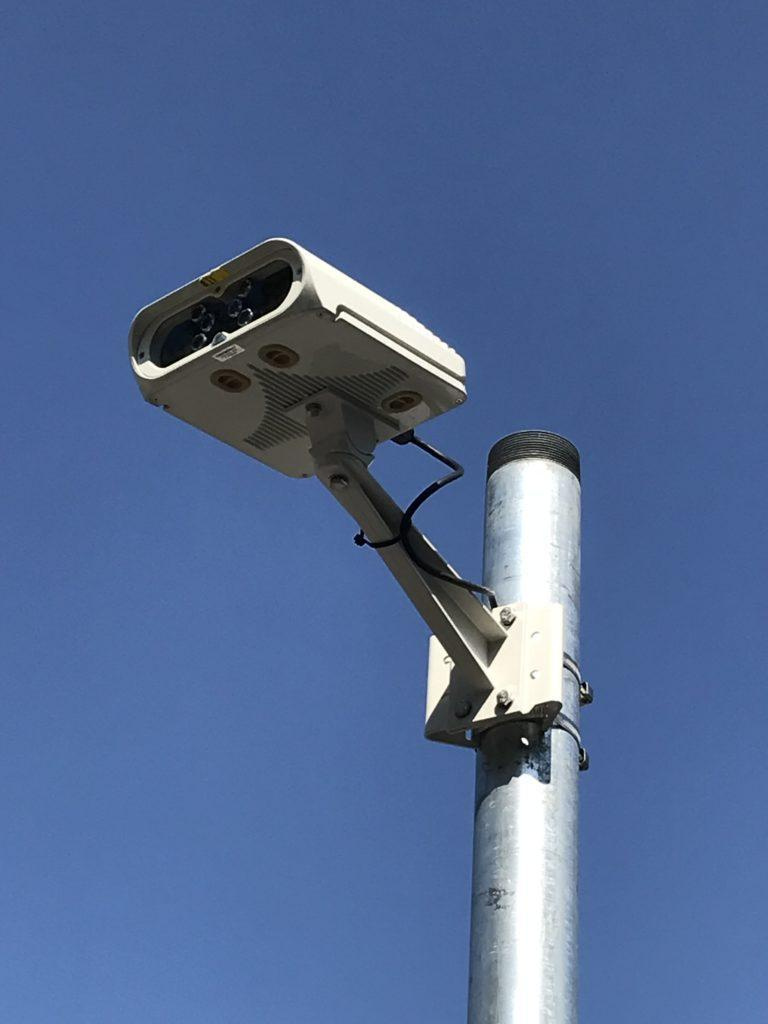CCTV: (65, 173, 481, 542)
